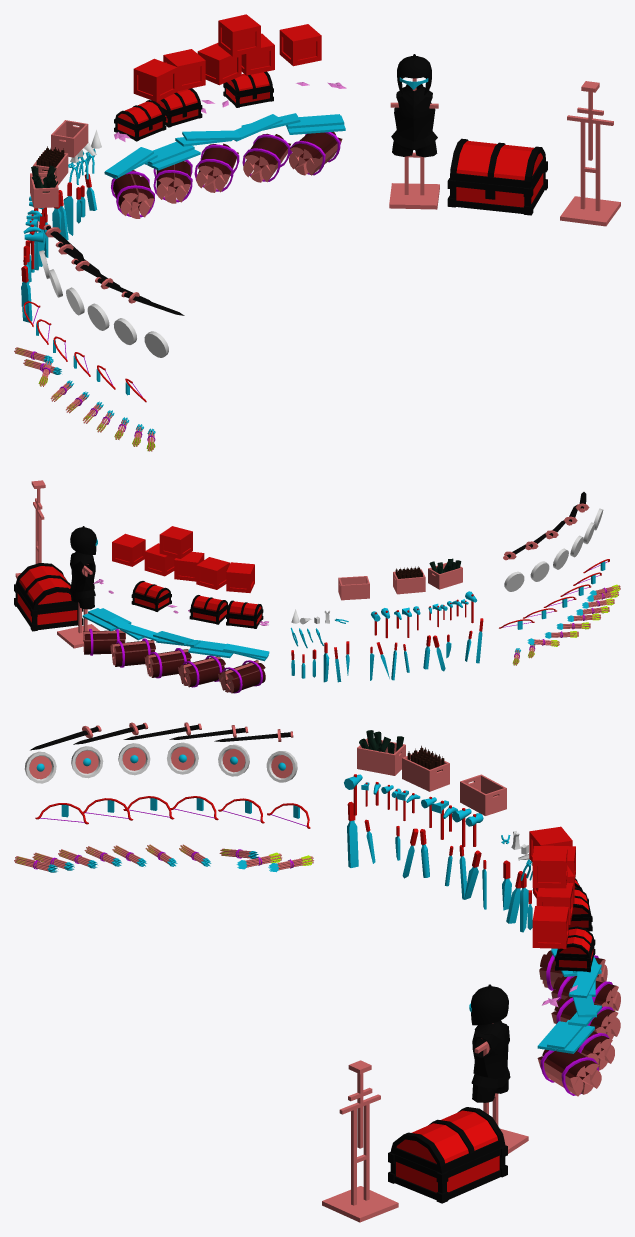
The picture shows the model from 3 angles, top to bottom: view 1: azimuth 30°, elevation 25°; view 2: azimuth 150°, elevation 25°; view 3: azimuth 270°, elevation 25°; orthographic projection. The views are drawn at different scales.
Parts seen in each view (by area): view 1: Object; view 2: Object; view 3: Object.
Boxes of the visible parts, bbox=[...] form: Object: bbox=[14, 14, 620, 451]; Object: bbox=[14, 480, 620, 693]; Object: bbox=[14, 722, 620, 1222].
Bounding box in the file's own units: 1411 × 398 × 1037.
